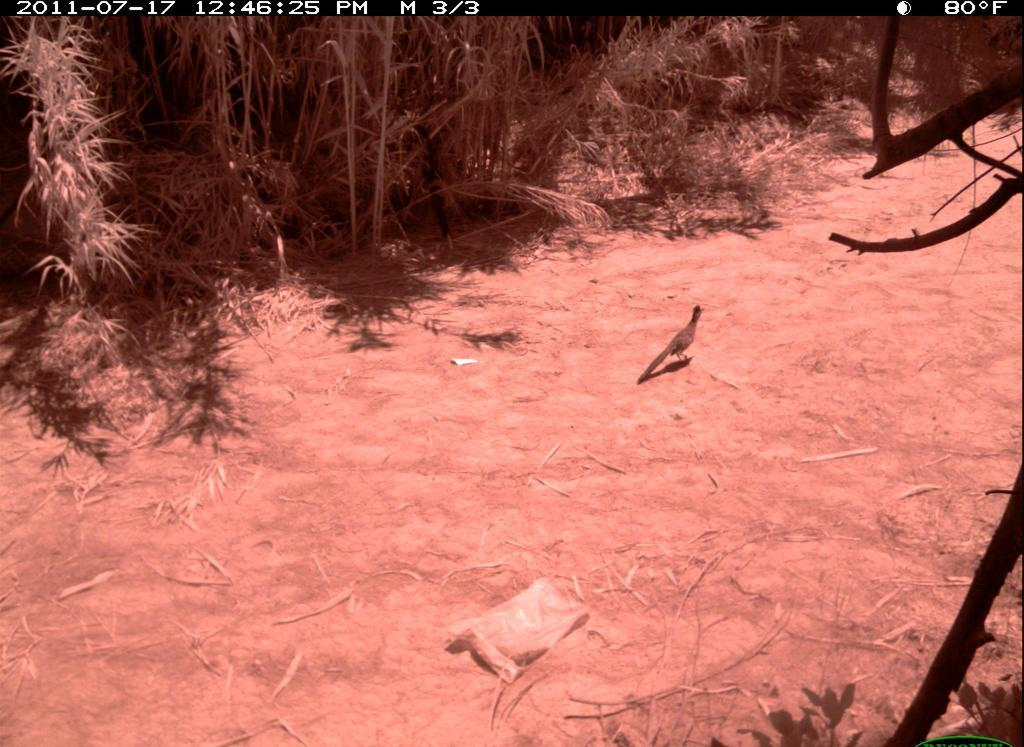bird: (634, 296, 730, 392)
